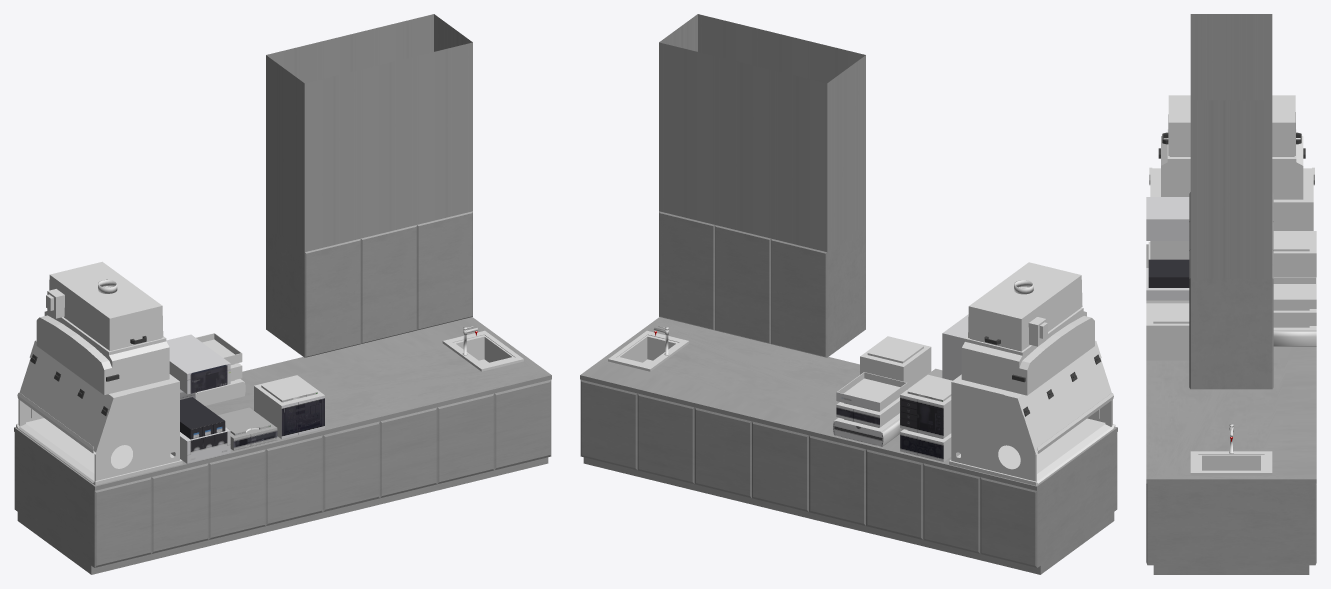
Rendered from new lab bench assembly.fbx.
3 views of the same model, side by side, from view 1: azimuth 30°, elevation 25°; view 2: azimuth 150°, elevation 25°; view 3: azimuth 270°, elevation 25° (orthographic). The views are drawn at different scales.
Visible parts, largest first — view 1: Cube.019, bench cabs, bench top, Cube, Cube.015, Cube.017, UPLC.001, Cube.009, Cube.014, Cube.018, UPLC.002, Cube.016; view 2: Cube.019, bench cabs, bench top, Cube, Cube.015, UPLC.002, UPLC, Cube.009, Cube.014, UPLC.001, Cube.018, Cube.017; view 3: Cube.019, bench top, bench cabs, Cube.015, Cube.017, UPLC.002, UPLC.001, UPLC, Cube.018, Cube.012, Cube.
Boxes of the visible parts, x1,y1,x2,y2 form: Cube.019: (266,14,472,357); bench cabs: (14,379,551,574); bench top: (14,317,551,490); Cube: (18,342,179,480); Cube.015: (44,261,169,393); Cube.017: (166,334,230,463); UPLC.001: (254,375,324,438); Cube.009: (16,399,182,485); Cube.014: (36,315,112,395); Cube.018: (442,330,523,371); UPLC.002: (195,333,245,405); Cube.016: (218,407,277,450); Cube.019: (659,14,865,357); bench cabs: (580,379,1117,574); bench top: (580,317,1117,490); Cube: (951,343,1111,481); Cube.015: (961,262,1086,393); UPLC.002: (833,372,907,446); UPLC: (900,374,952,461); Cube.009: (949,400,1115,485); Cube.014: (1019,316,1094,395); UPLC.001: (860,336,931,388); Cube.018: (608,330,689,371); Cube.017: (942,314,968,380); Cube.019: (1189,14,1273,389); bench top: (1146,244,1316,483); bench cabs: (1146,483,1316,574); Cube.015: (1161,95,1303,199); Cube.017: (1146,197,1189,300); UPLC.002: (1273,277,1316,346); UPLC.001: (1146,303,1189,360); UPLC: (1273,231,1316,277); Cube.018: (1190,451,1272,475); Cube.012: (1150,202,1313,259); Cube: (1150,168,1313,202).
Size of the model in its own units: 414 by 366 by 127.
